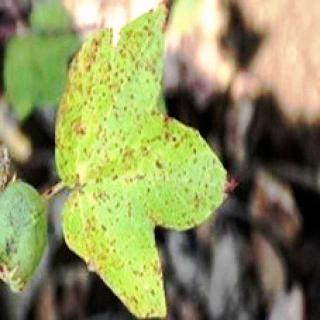leaf spot: (58, 3, 232, 319)
